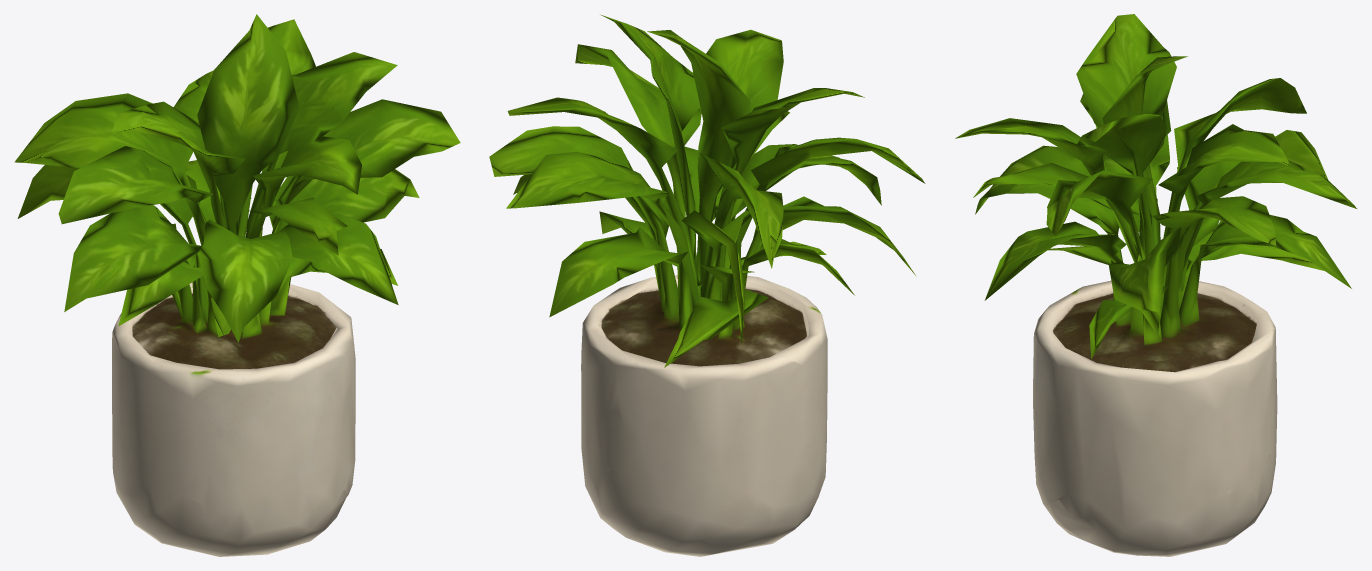
Rendered from plant_broadleaf.glb.
The picture shows the model from 3 angles, left to right: view 1: azimuth 30°, elevation 25°; view 2: azimuth 150°, elevation 25°; view 3: azimuth 270°, elevation 25°; orthographic projection.
Visible parts, largest first — view 1: tripo_node_3a12af8c-5c9a-45d6-a1fd-c3b00dbd90e5; view 2: tripo_node_3a12af8c-5c9a-45d6-a1fd-c3b00dbd90e5; view 3: tripo_node_3a12af8c-5c9a-45d6-a1fd-c3b00dbd90e5.
Part boxes in pixels (box(x1,y1,x2,y2)): tripo_node_3a12af8c-5c9a-45d6-a1fd-c3b00dbd90e5: box(14, 14, 460, 556); tripo_node_3a12af8c-5c9a-45d6-a1fd-c3b00dbd90e5: box(489, 14, 925, 556); tripo_node_3a12af8c-5c9a-45d6-a1fd-c3b00dbd90e5: box(955, 14, 1356, 556).
Bounding box in the file's own units: 0.8303 × 1 × 0.7585.
1 material, 1 textured.
